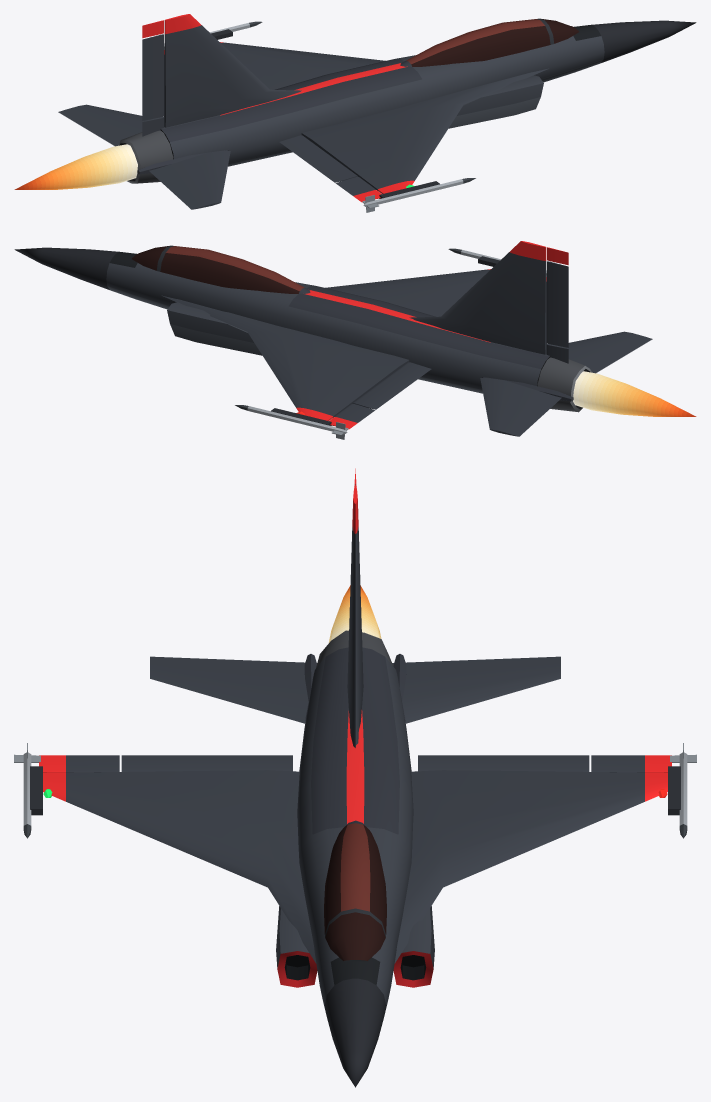
The model's file is fighter_bandit.glb.
3 renders of one model, top to bottom at view 1: azimuth 30°, elevation 25°; view 2: azimuth 150°, elevation 25°; view 3: azimuth 270°, elevation 25°, orthographic. The views are drawn at different scales.
Parts seen in each view (by area): view 1: Body, Afterburner, Stab_R, Stab_L, Rudder, Flaperon_R; view 2: Body, Afterburner, Stab_L, Stab_R, Rudder, Flaperon_L; view 3: Body, Stab_L, Stab_R, Flaperon_L, Flaperon_R, Afterburner.
Part boxes in pixels (x1,y1,x2,y2): Body: (117,14,696,212); Afterburner: (14,144,137,189); Stab_R: (149,150,230,209); Stab_L: (58,104,153,146); Rudder: (142,34,164,120); Flaperon_R: (279,135,358,182); Body: (14,241,593,439); Afterburner: (573,371,696,416); Stab_L: (480,377,565,436); Stab_R: (557,331,652,373); Rudder: (546,261,568,347); Flaperon_L: (352,362,431,409); Body: (14,468,696,1087); Stab_L: (392,656,560,723); Stab_R: (150,656,317,723); Flaperon_L: (418,755,589,771); Flaperon_R: (121,755,292,771); Afterburner: (328,585,381,642).
Size of the model in its own units: 18 by 4 by 10.14.
2 materials, 2 textured.
